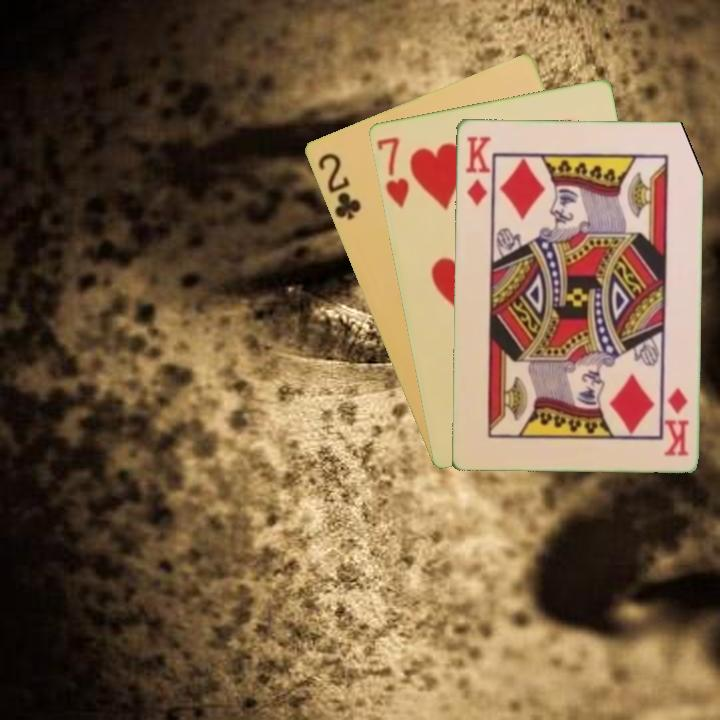2c: (313, 149, 364, 223)
7h: (372, 133, 412, 211)
Kd: (660, 383, 692, 458), (462, 132, 493, 208)
